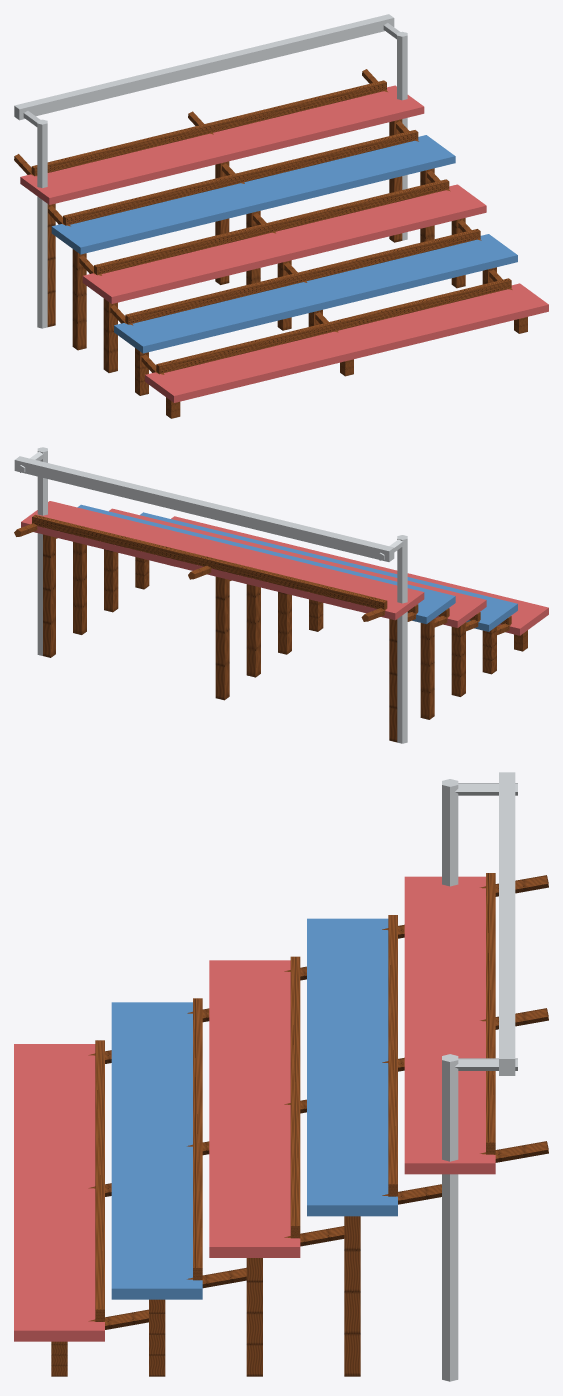
File: travelling-circus-and-big-top-tiered-bench-seating-d07bc44f__36235.glb
3 renders of one model, top to bottom at view 1: azimuth 30°, elevation 25°; view 2: azimuth 150°, elevation 25°; view 3: azimuth 270°, elevation 25°, orthographic. The views are drawn at different scales.
Parts seen in each view (by area): view 1: tiered-bench-seating-stripe, tiered-bench-seating-timber, tiered-bench-seating-azure, tiered-bench-seating-steel; view 2: tiered-bench-seating-timber, tiered-bench-seating-stripe, tiered-bench-seating-steel, tiered-bench-seating-azure; view 3: tiered-bench-seating-stripe, tiered-bench-seating-azure, tiered-bench-seating-timber, tiered-bench-seating-steel.
Part boxes in pixels (<box>): tiered-bench-seating-stripe: <box>20,85,548,402</box>; tiered-bench-seating-timber: <box>14,69,527,418</box>; tiered-bench-seating-azure: <box>51,135,517,353</box>; tiered-bench-seating-steel: <box>14,14,407,328</box>; tiered-bench-seating-timber: <box>14,514,527,742</box>; tiered-bench-seating-stripe: <box>21,501,548,635</box>; tiered-bench-seating-steel: <box>14,447,407,743</box>; tiered-bench-seating-azure: <box>77,504,517,631</box>; tiered-bench-seating-stripe: <box>14,876,495,1341</box>; tiered-bench-seating-azure: <box>111,918,397,1299</box>; tiered-bench-seating-timber: <box>51,873,548,1376</box>; tiered-bench-seating-steel: <box>442,772,517,1381</box>.
Bounding box in the file's own units: 5 × 2.64 × 3.94.
Materials: 4 (1 with a texture image).
